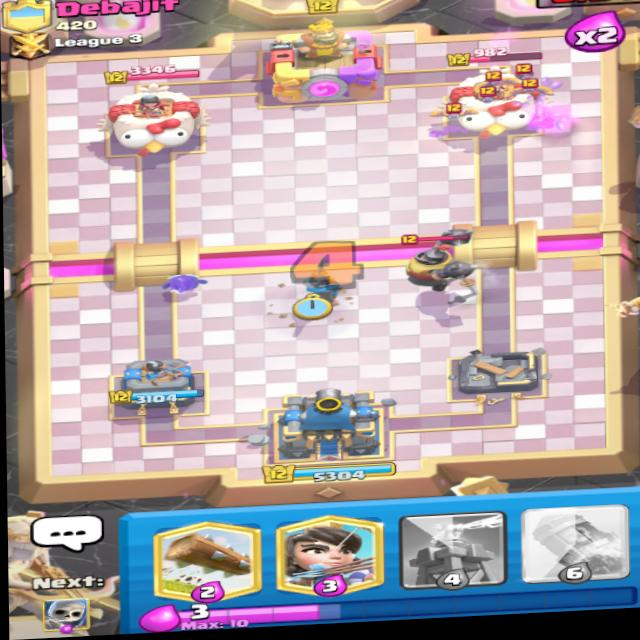Bat: (429, 92, 476, 128), (507, 59, 543, 83), (513, 79, 544, 104), (466, 84, 496, 107), (479, 68, 509, 87)
Megaknight: (381, 230, 482, 300)
